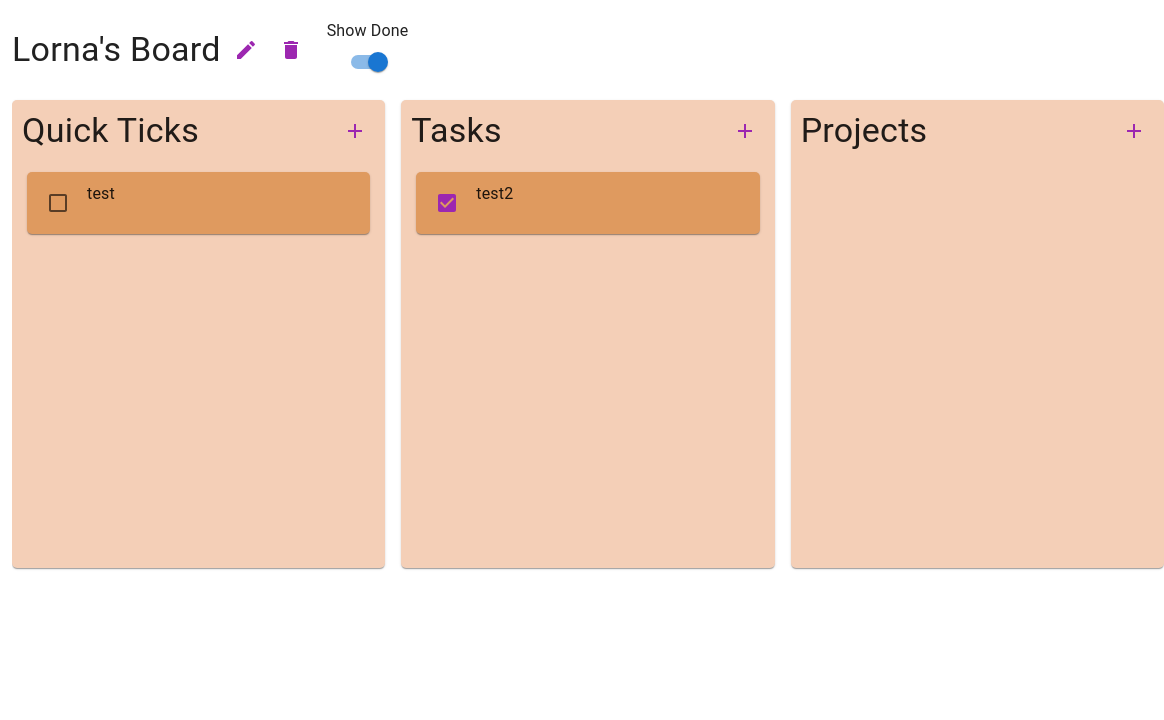
Test case: Board page › should render input when editing board name
Click the button with test id "edit-board-name-button" at (246, 50), box [226, 30, 266, 70]
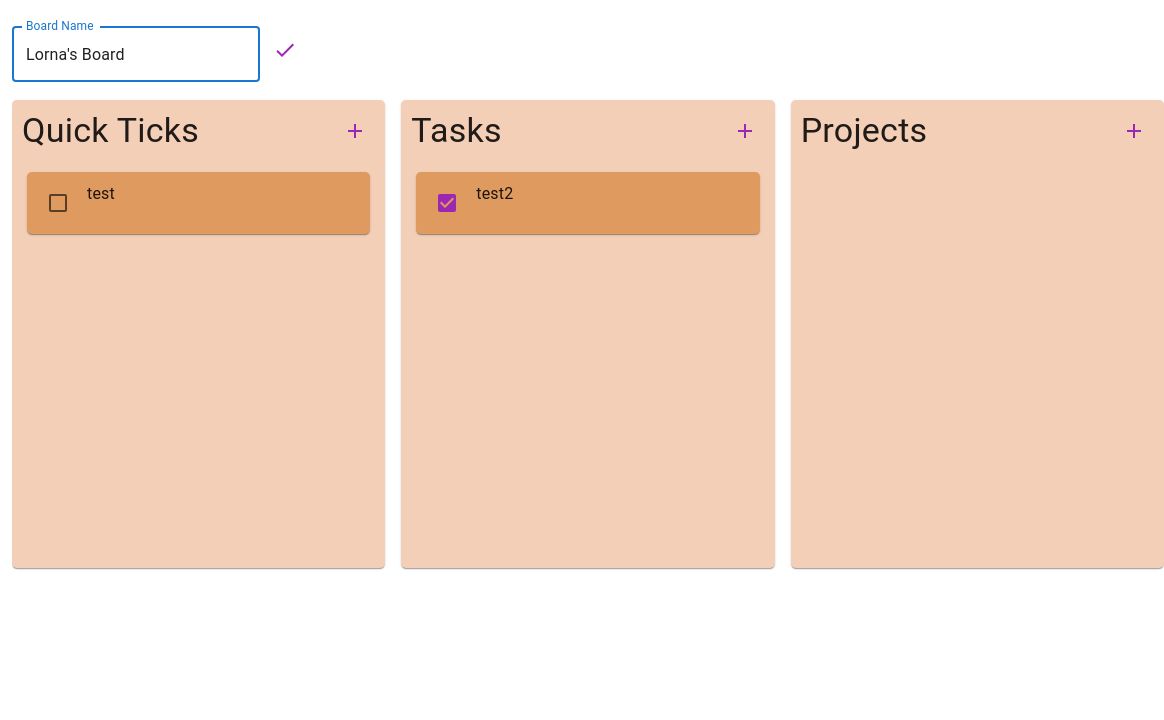
Now the element with test id "board-name-input" is shown, box [12, 26, 260, 82]
Now the button with test id "submit-board-name-button" is shown, box [265, 30, 305, 70]
